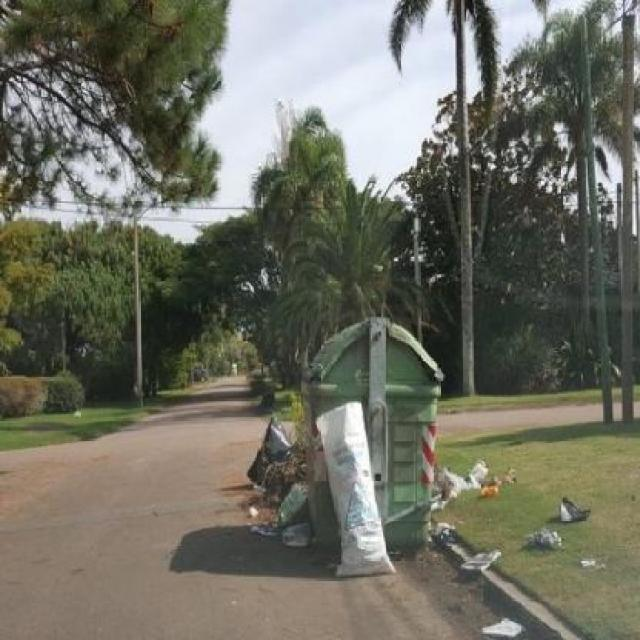garbage: (311, 396, 396, 585), (242, 406, 309, 556), (499, 489, 598, 560), (431, 466, 522, 508), (471, 611, 528, 638)
